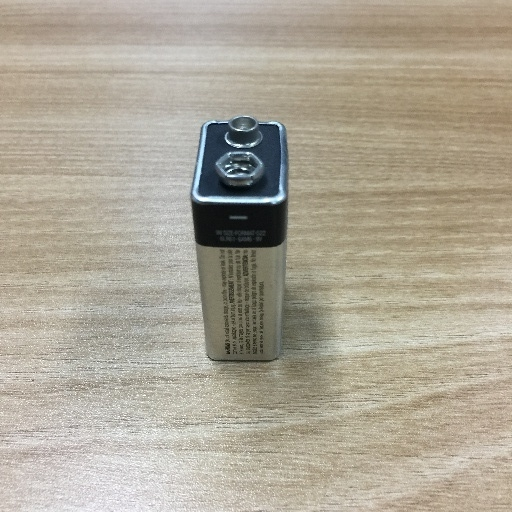Battery_3: (176, 105, 318, 400)
